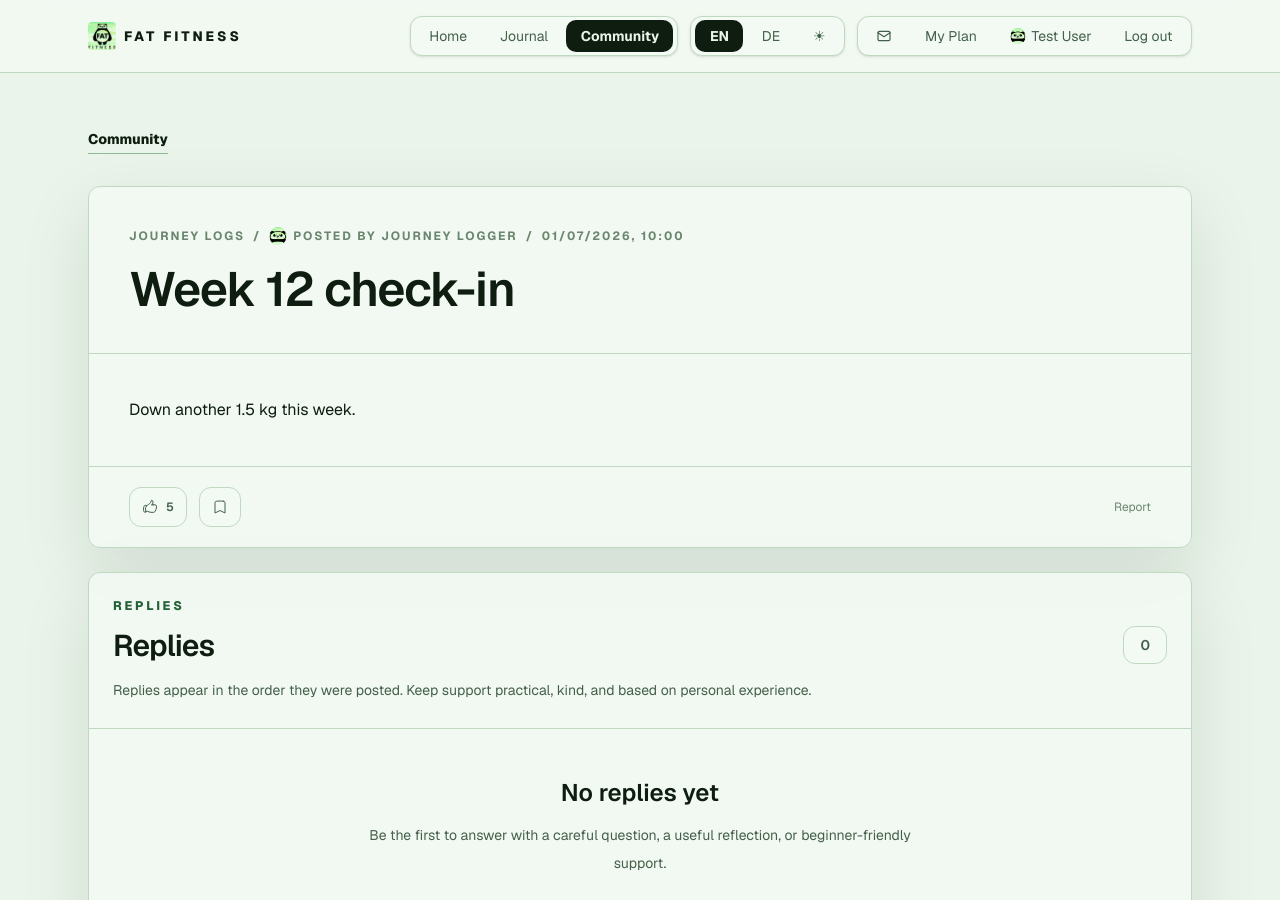
Test: CommunityPostDetailView › toggles the like state from the server response
Expected: the heading "Week 12 check-in" is shown, [129,258,515,320]
Click the button named "Like".
click(158, 507)  # box [129,487,187,527]
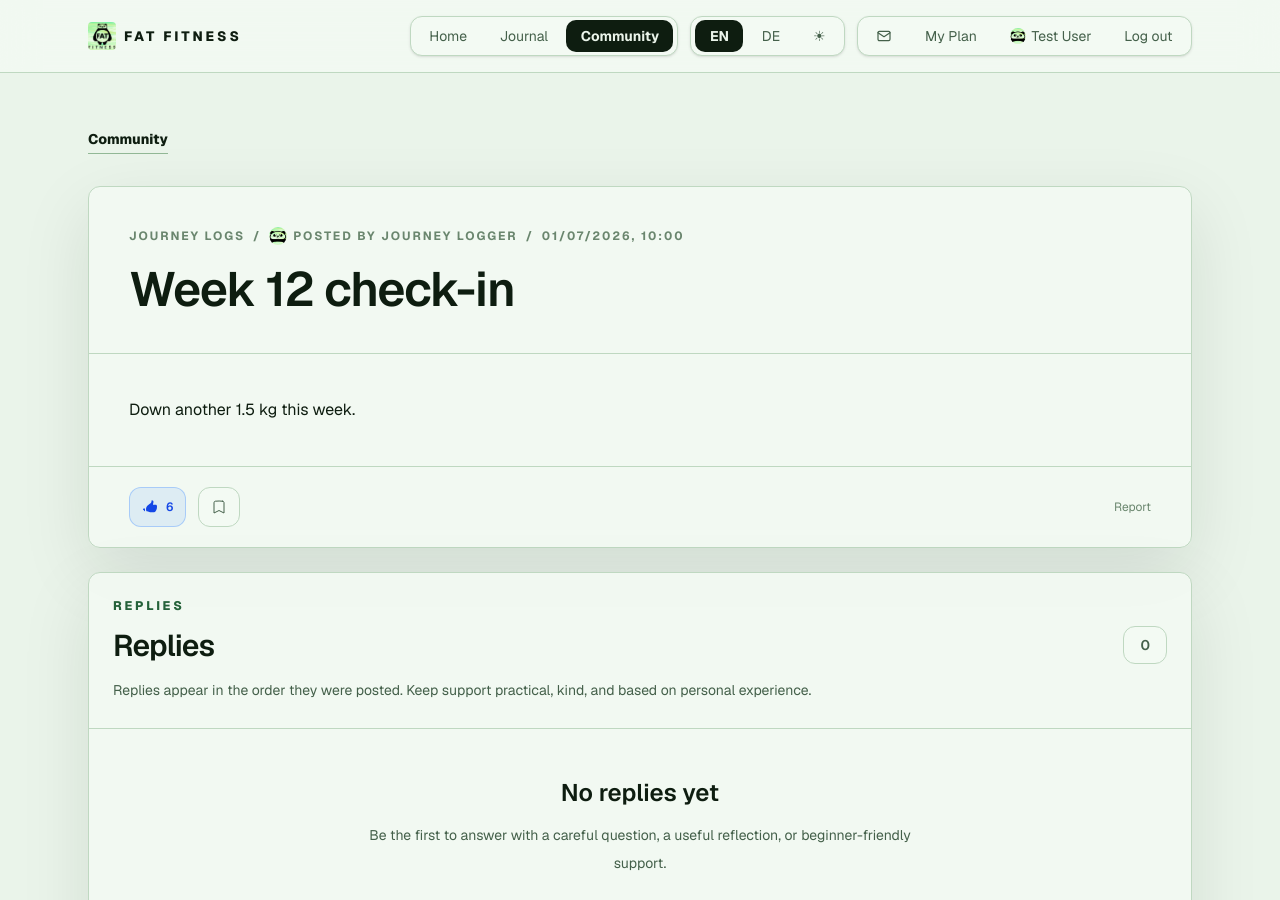
Expected: the button named "Liked" is shown, [129,487,186,527]
